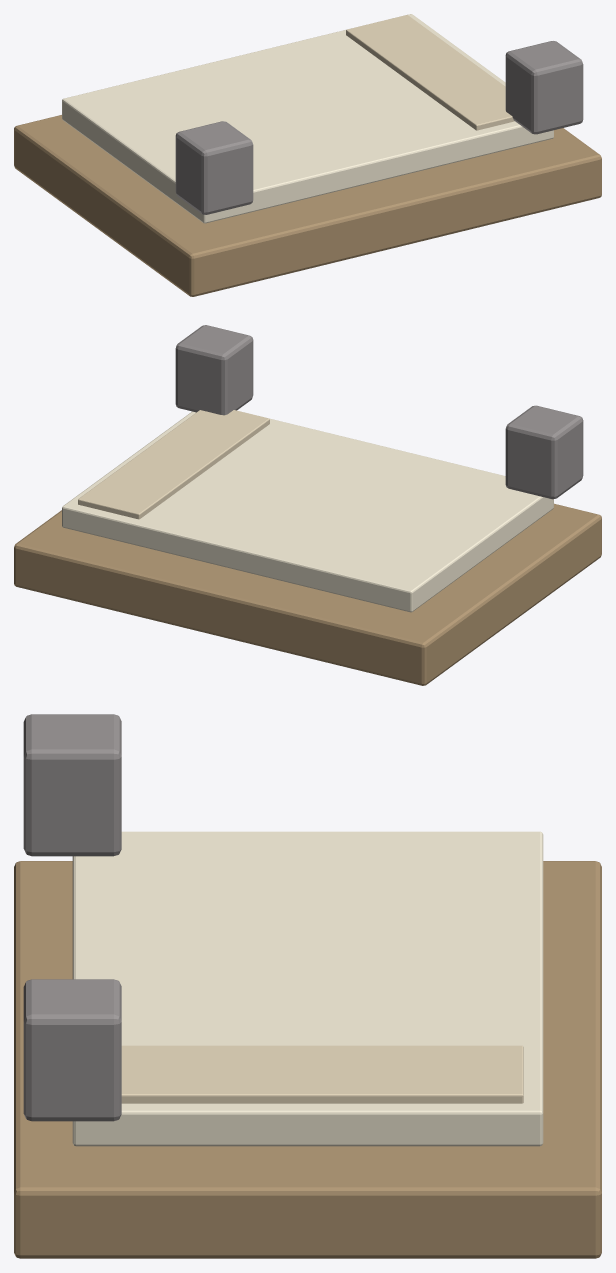
The model's file is chart_blank.glb.
3 views of the same model, one above another, from view 1: azimuth 30°, elevation 25°; view 2: azimuth 150°, elevation 25°; view 3: azimuth 270°, elevation 25° (orthographic). The views are drawn at different scales.
Parts seen in each view (by area): view 1: Parchment, Plank, Parch_edge_a, Weight_L, Weight_R; view 2: Parchment, Plank, Parch_edge_a, Weight_L, Weight_R; view 3: Parchment, Plank, Parch_edge_a, Weight_L, Weight_R.
Boxes of the visible parts, bbox=[...] form: Parchment: bbox=[62, 14, 553, 223]; Plank: bbox=[14, 115, 601, 296]; Parch_edge_a: bbox=[346, 15, 514, 130]; Weight_L: bbox=[175, 121, 253, 214]; Weight_R: bbox=[505, 41, 583, 134]; Parchment: bbox=[62, 411, 553, 612]; Plank: bbox=[14, 503, 601, 685]; Parch_edge_a: bbox=[78, 410, 269, 519]; Weight_L: bbox=[505, 405, 583, 499]; Weight_R: bbox=[175, 325, 253, 415]; Parchment: bbox=[72, 831, 543, 1146]; Plank: bbox=[14, 861, 601, 1258]; Parch_edge_a: bbox=[121, 1045, 523, 1103]; Weight_L: bbox=[23, 714, 121, 856]; Weight_R: bbox=[23, 979, 121, 1121].
Size of the model in its own units: 0.4 by 0.13 by 0.3.
